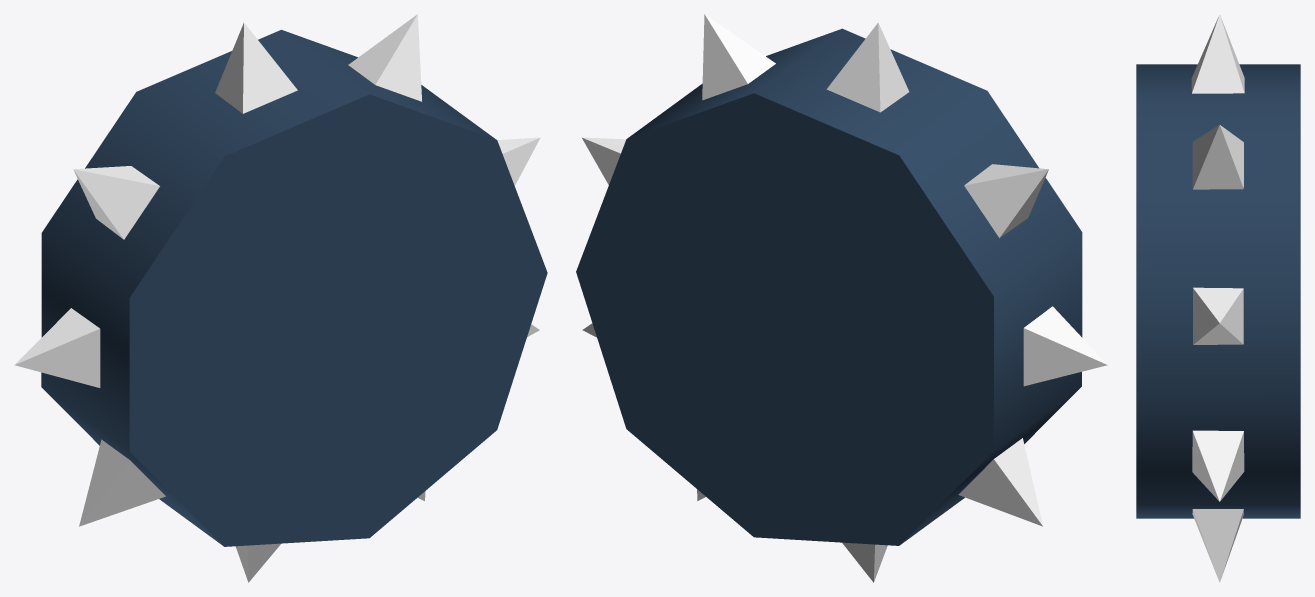
The model's file is dog_collar_verC.FBX.
3 views of the same model, side by side, from view 1: azimuth 30°, elevation 25°; view 2: azimuth 150°, elevation 25°; view 3: azimuth 270°, elevation 25° (orthographic). The views are drawn at different scales.
Visible parts, largest first — view 1: Collar, collar_spike; view 2: Collar, collar_spike; view 3: Collar, collar_spike.
Part boxes in pixels (x1,y1,x2,y2): Collar: (41, 29, 547, 546); collar_spike: (14, 14, 540, 582); Collar: (576, 28, 1082, 545); collar_spike: (581, 14, 1107, 582); Collar: (1136, 64, 1300, 518); collar_spike: (1191, 14, 1244, 582).
Size of the model in its own units: 55.36 by 56.45 by 16.1.
